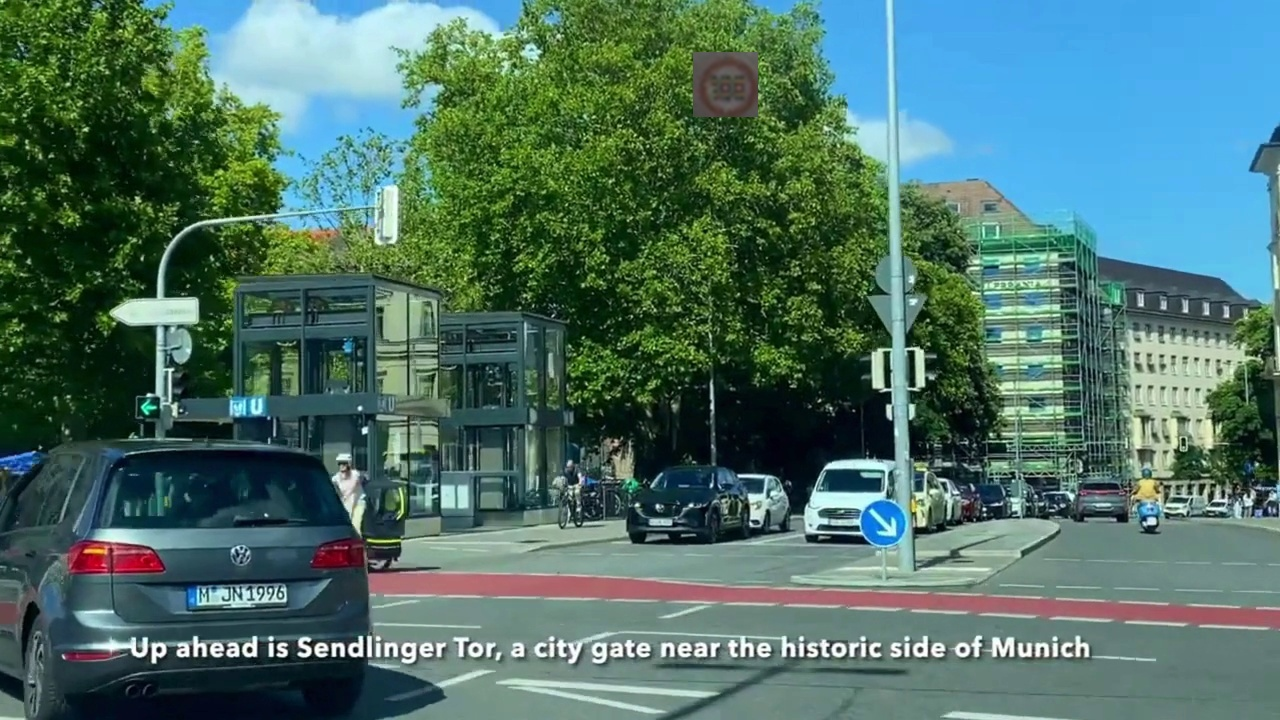Speed 100: (693, 52, 758, 117)
